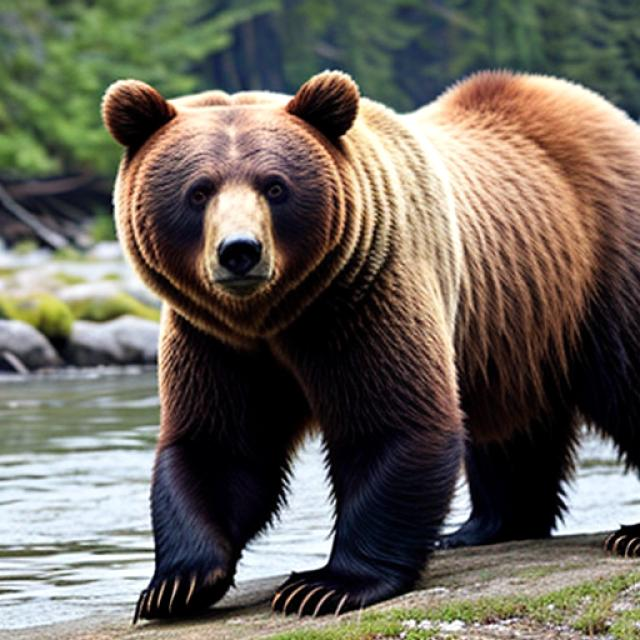bear: (95, 63, 396, 353)
